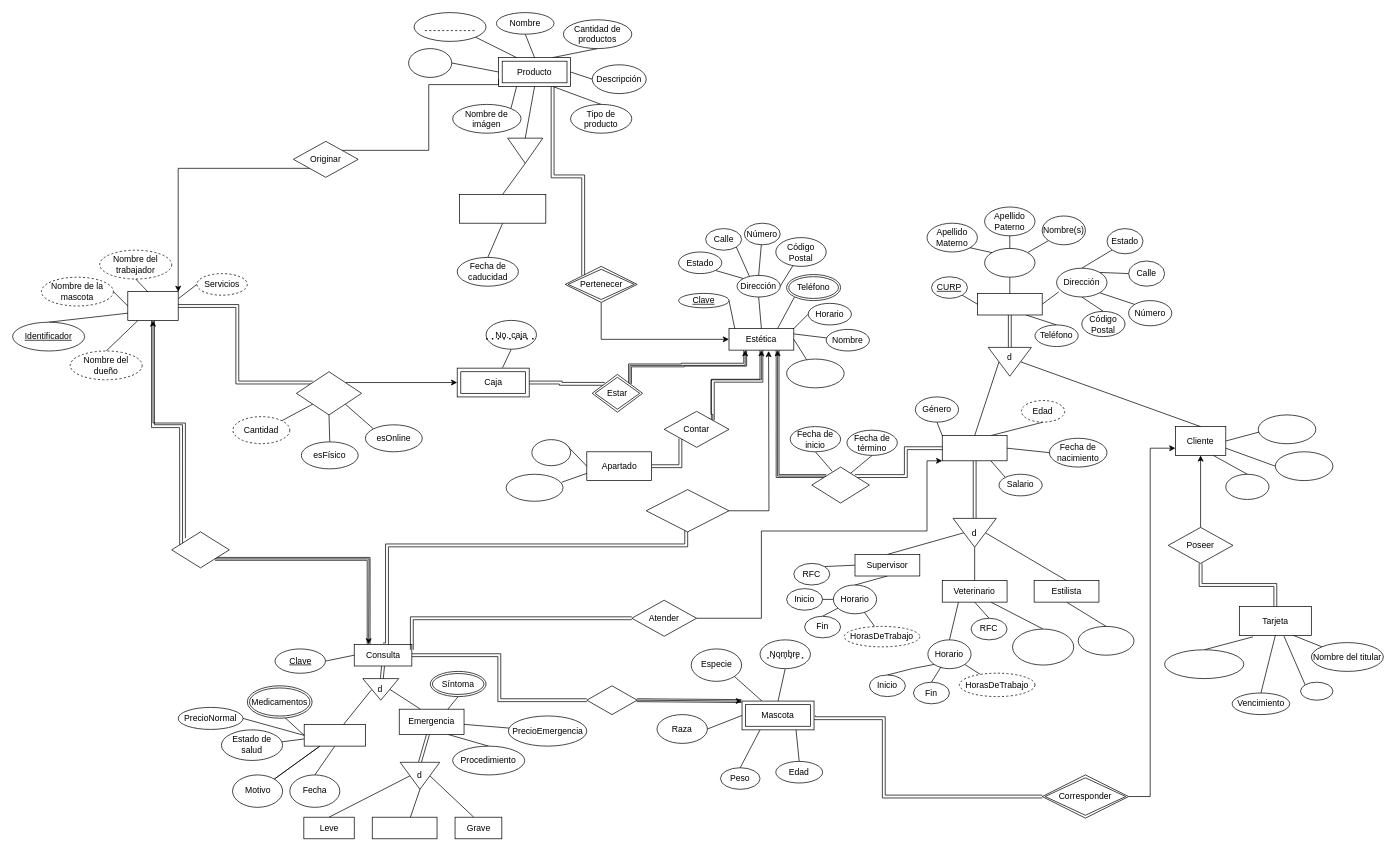
The diagram is 1396 pixels wide and 852 high, and some of its shapes have lost their labels. Each missing label, with the centre of its shape:
"Considerable" belongs at (x=404, y=827).
"CVV" belongs at (x=1316, y=690).
"e-mail" belongs at (x=1247, y=486).
"esFrecuente" belongs at (x=1304, y=466).
"Fecha de cumpleaños" belongs at (x=1286, y=429).
"Generar" belongs at (x=200, y=549).
"idProducto" belongs at (x=449, y=26).
"Laborar" belongs at (x=840, y=484).
"Llave" belongs at (x=551, y=452).
"LlevarseACabo" belongs at (x=687, y=510).
"No. Certificado" belongs at (x=1105, y=640).
"No. de pacientes activos" belongs at (x=1043, y=646).
"Nombre completo" belongs at (x=1009, y=262).
"Normal" belongs at (x=334, y=735).
"Num de consultorios" belongs at (x=815, y=373).
"Número de tarjeta" belongs at (x=1204, y=664).
"Pagar" belongs at (x=329, y=393).
"Persona" belongs at (x=1009, y=304).
"Precio" belongs at (x=430, y=62).
"ProductoCaducable" belongs at (x=502, y=208).
"Recibo" belongs at (x=152, y=305).
"Tener" belongs at (x=611, y=700).
"tipoApartado" belongs at (x=534, y=487).
"Trabajador" belongs at (x=974, y=448).
